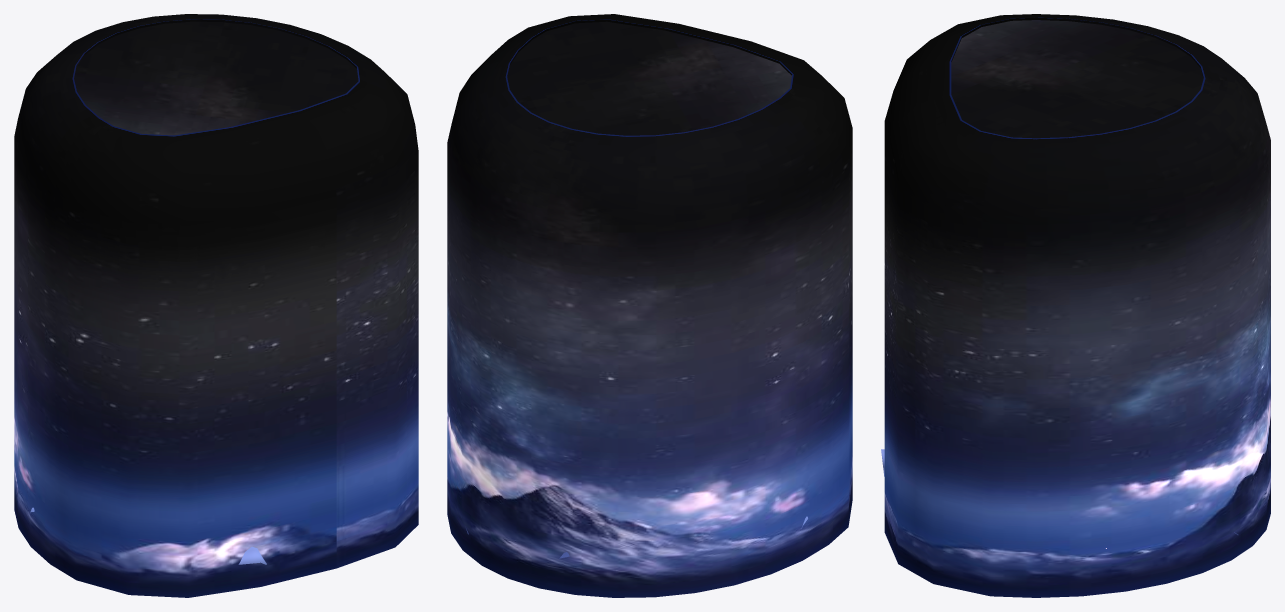
File: rbt_interior_skywall.glb
3 renders of one model, left to right at view 1: azimuth 30°, elevation 25°; view 2: azimuth 150°, elevation 25°; view 3: azimuth 270°, elevation 25°, orthographic.
Parts seen in each view (by area): view 1: Sky_wall.001; view 2: Sky_wall.001; view 3: Sky_wall.001.
Boxes of the visible parts, left/top/right/bottom form: Sky_wall.001: left=14, top=14, right=418, bottom=597; Sky_wall.001: left=447, top=14, right=852, bottom=597; Sky_wall.001: left=881, top=14, right=1270, bottom=597.
Size of the model in its own units: 77.99 by 93.8 by 76.12.
Materials: 1 (1 with a texture image).
